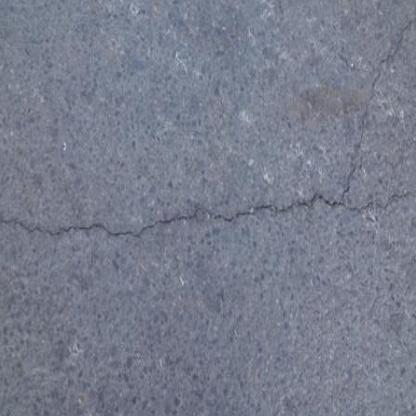Cracks: (0, 154, 416, 273), (331, 0, 416, 246)
